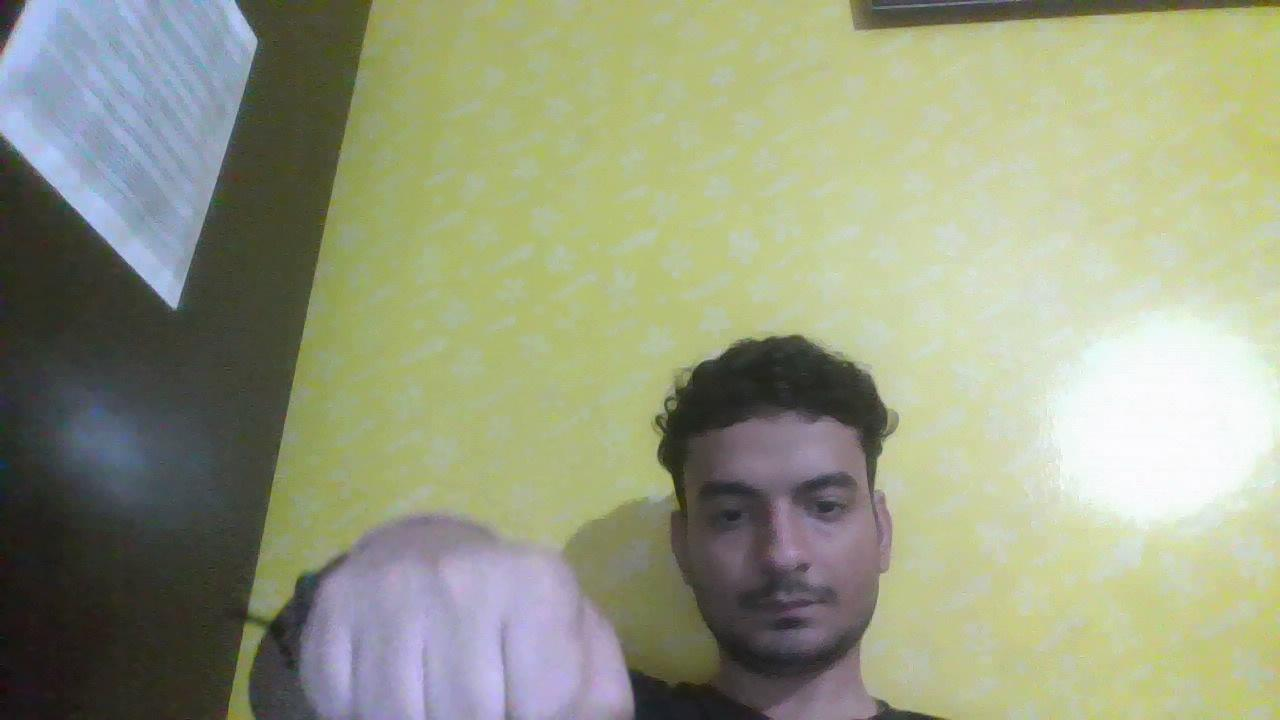Yes: (281, 503, 655, 720)
